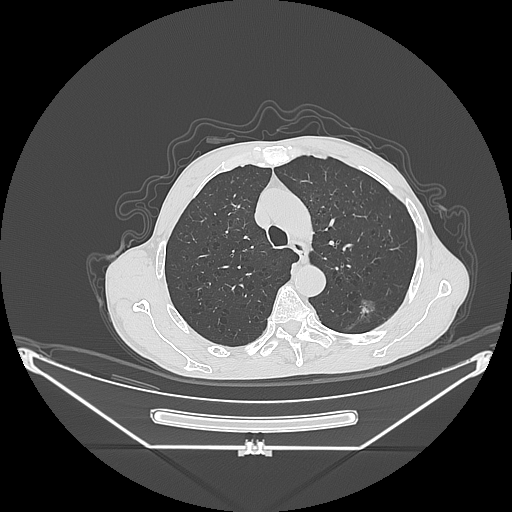nodule: (357, 298, 376, 315)
